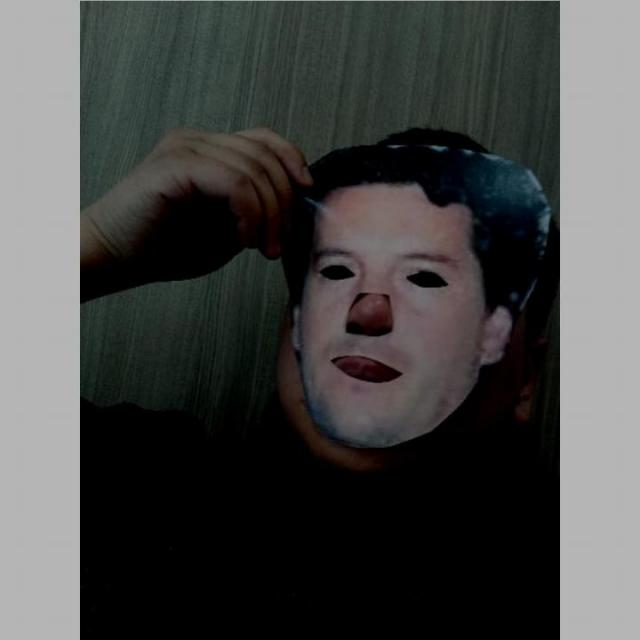mask: (281, 133, 554, 447)
